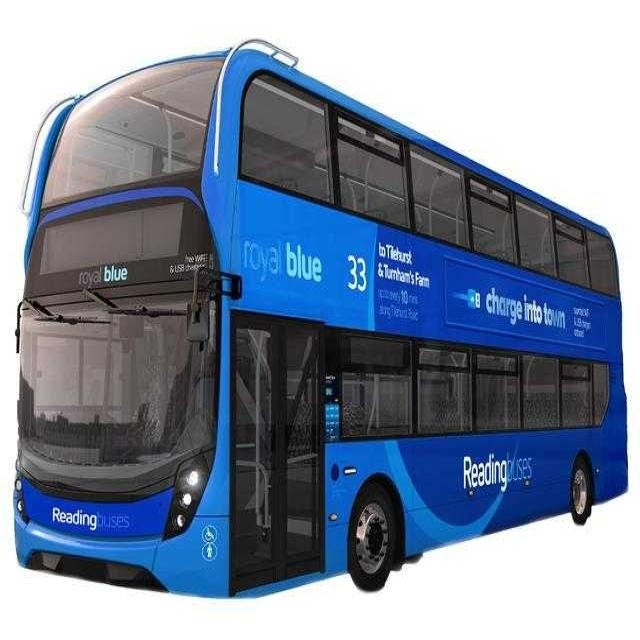Bus: (5, 15, 638, 608)
